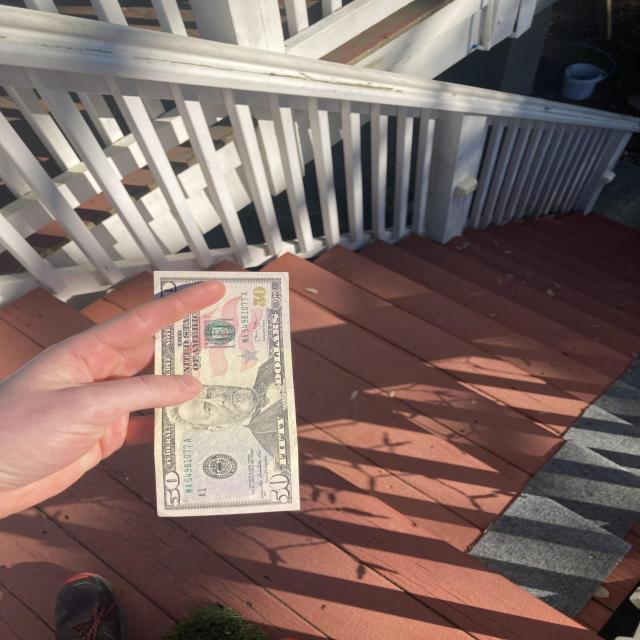fifty: (152, 270, 300, 516)
